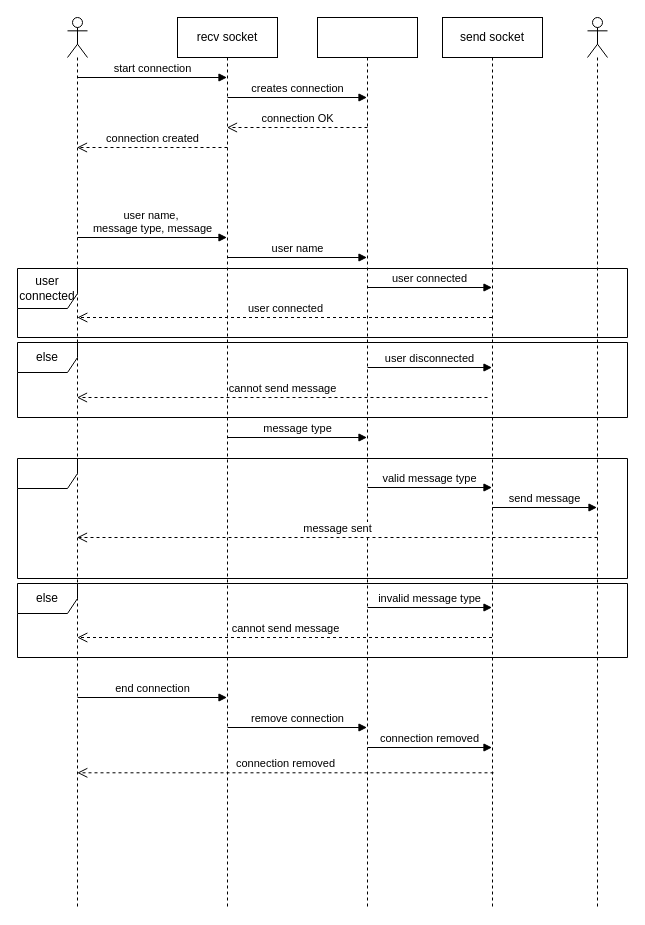
Image size: 645x925. Some labels were removed from this diagram. The shapes that lost their labels are listed below. From the top down, each one's box as (x1, y1, x2, y2) in pixels, then its label:
(316, 16, 418, 908): Server Obj
(16, 458, 628, 578): message type OK
